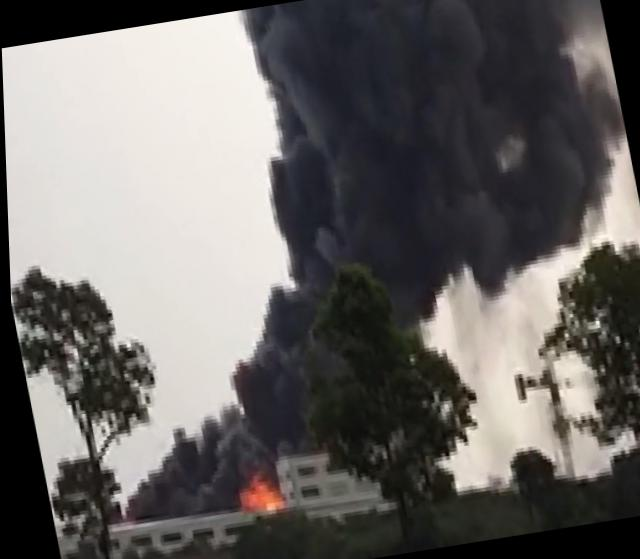fire: (233, 478, 284, 518)
